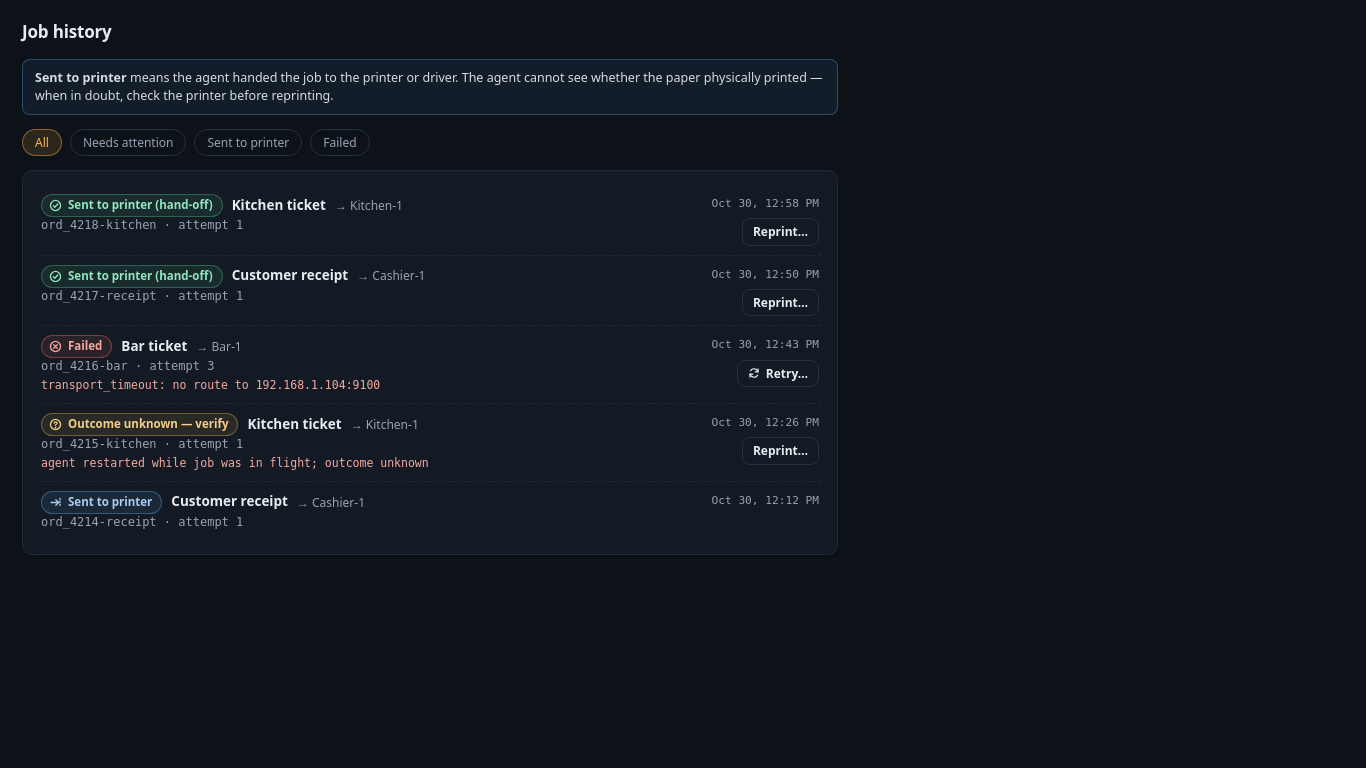
Test case: JobHistoryScreen › warns about duplicate risk when reprinting an ambiguous job
Expected: the text "transport_timeout: no route to 192.168.1.104:9100" is shown, top-left (41, 378), bottom-right (380, 394)
Expected: the list item "Outcome unknown" is shown, top-left (68, 416), bottom-right (228, 431)
Click the button "Reprint…" below "Oct 30, 12:26 PM".
click(780, 451)  # box top-left (742, 437), bottom-right (819, 465)
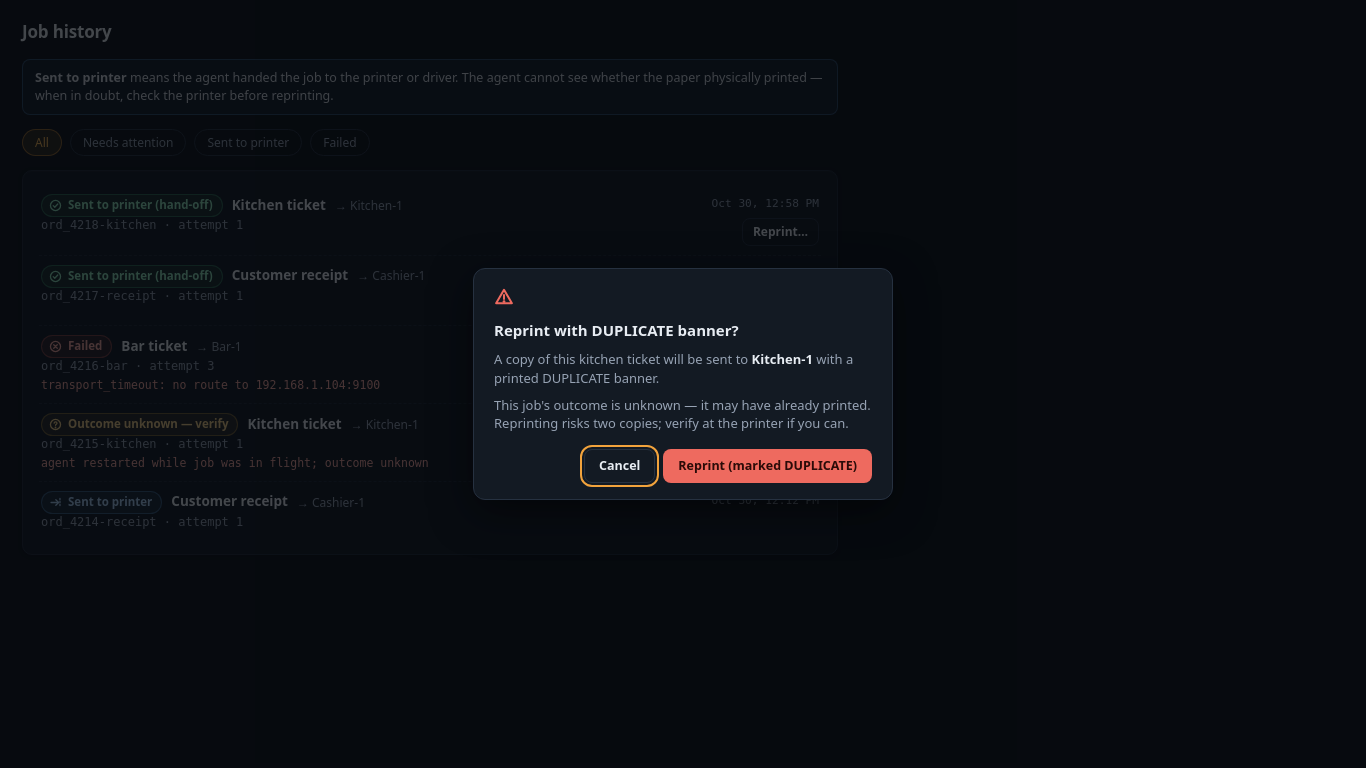
Expected: the dialog shows "DUPLICATE banner", top-left (494, 320), bottom-right (739, 340)
Expected: the dialog shows "may have already printed", top-left (494, 396), bottom-right (871, 432)
Click the button "Reprint (marked DUPLICATE)".
click(768, 466)  # box top-left (663, 449), bottom-right (872, 483)
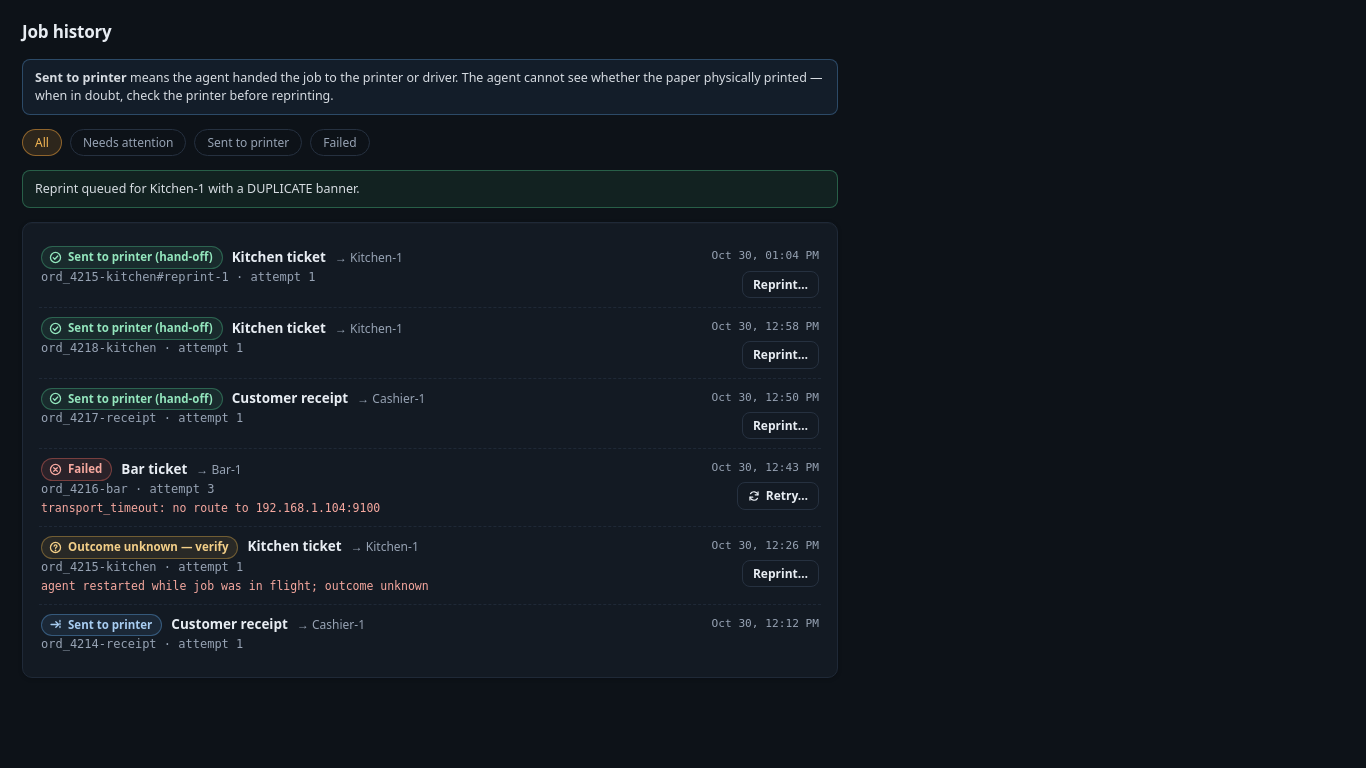
Expected: the message "Reprint queued for Kitchen-1 with a DUPLICATE banner." is shown, top-left (22, 170), bottom-right (838, 208)
